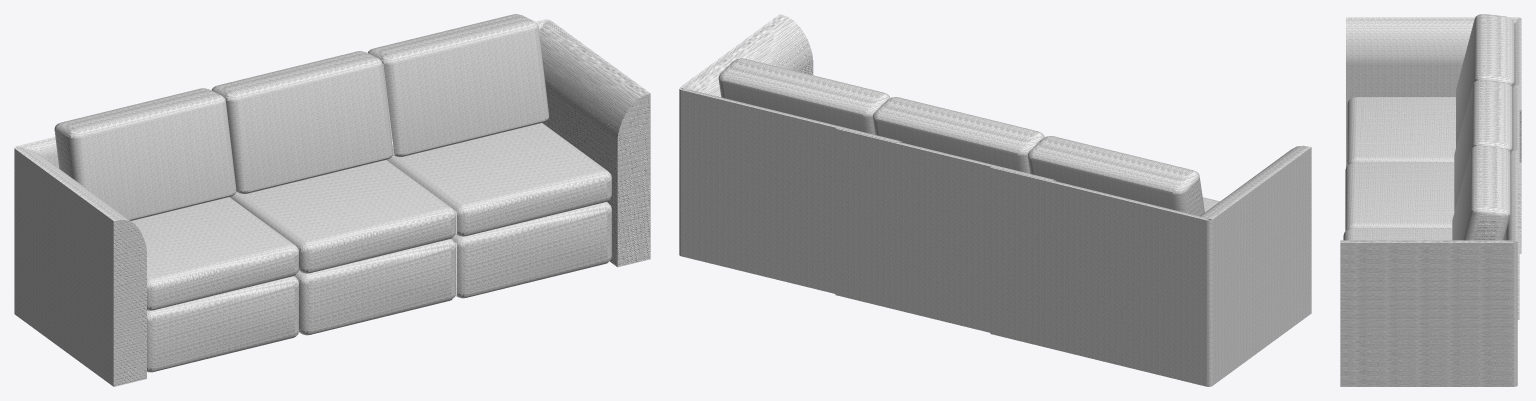
File: amelie.obj
The picture shows the model from 3 angles, left to right: view 1: azimuth 30°, elevation 25°; view 2: azimuth 150°, elevation 25°; view 3: azimuth 270°, elevation 25°; orthographic projection. The views are drawn at different scales.
Parts seen in each view (by area): view 1: Sofa1b5_3_6, Sofa1b4_2_5, Sofa1b3_1_1, Sofa1b4_2_2, Sofa1b5_3_3, Sofa1b3_1_4; view 2: Sofa1b5_3_6, Sofa1b4_2_5, Sofa1b3_1_1, Sofa1b5_3_3, Sofa1b4_2_2, Sofa1b3_1_4; view 3: Sofa1b4_2_5, Sofa1b5_3_6, Sofa1b3_1_1, Sofa1b4_2_2, Sofa1b5_3_3, Sofa1b3_1_4.
Part boxes in pixels (left/top/right/bottom): Sofa1b5_3_6: left=14, top=88, right=298, bottom=386; Sofa1b4_2_5: left=368, top=14, right=650, bottom=298; Sofa1b3_1_1: left=211, top=51, right=455, bottom=335; Sofa1b4_2_2: left=368, top=14, right=650, bottom=297; Sofa1b5_3_3: left=14, top=89, right=298, bottom=386; Sofa1b3_1_4: left=212, top=51, right=455, bottom=334; Sofa1b5_3_6: left=990, top=136, right=1311, bottom=386; Sofa1b4_2_5: left=679, top=14, right=901, bottom=293; Sofa1b3_1_1: left=835, top=97, right=1056, bottom=332; Sofa1b5_3_3: left=990, top=136, right=1311, bottom=386; Sofa1b4_2_2: left=679, top=16, right=898, bottom=292; Sofa1b3_1_4: left=835, top=97, right=1048, bottom=330; Sofa1b4_2_5: left=1340, top=145, right=1517, bottom=386; Sofa1b5_3_6: left=1346, top=14, right=1521, bottom=253; Sofa1b3_1_1: left=1345, top=80, right=1519, bottom=319; Sofa1b4_2_2: left=1340, top=145, right=1517, bottom=386; Sofa1b5_3_3: left=1346, top=14, right=1521, bottom=250; Sofa1b3_1_4: left=1345, top=80, right=1519, bottom=319.
Size of the model in its own units: 3.88 by 1.31 by 1.32.
